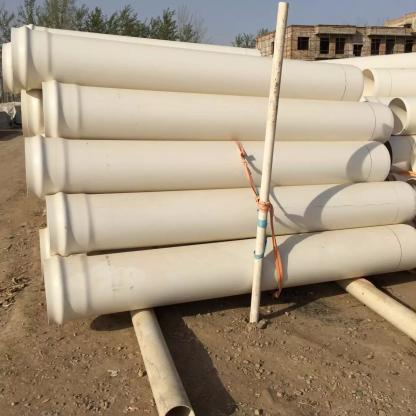PVC: (3, 3, 416, 416)
